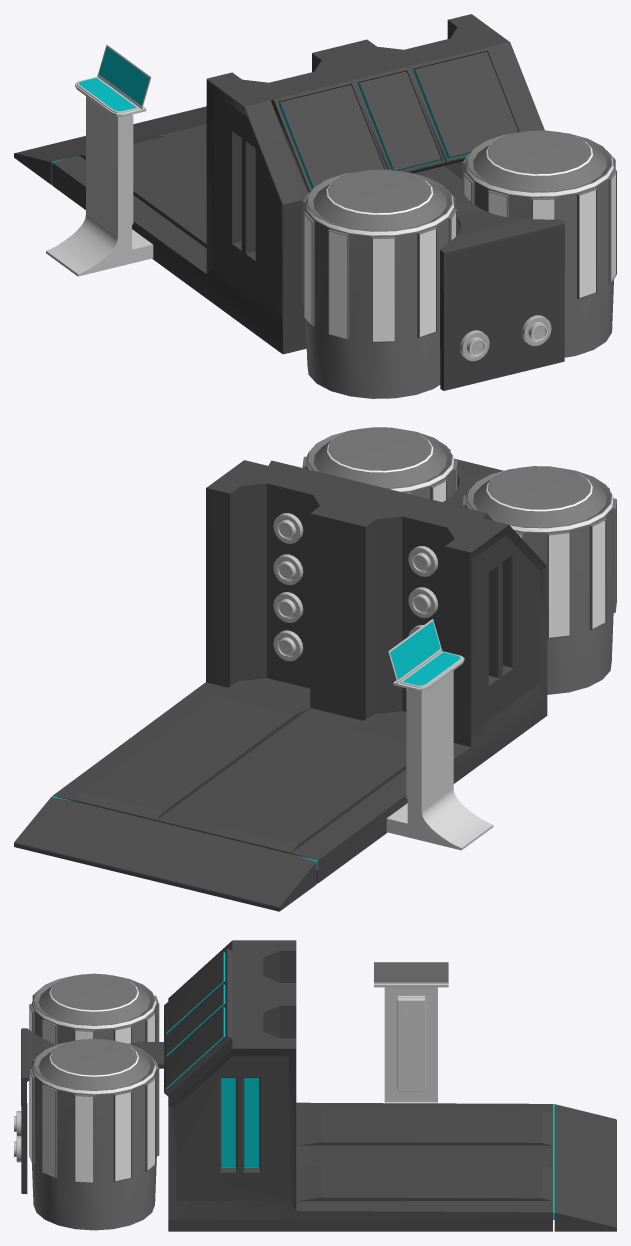
File: Recharge Station.fbx
3 views of the same model, one above another, from view 1: azimuth 30°, elevation 25°; view 2: azimuth 150°, elevation 25°; view 3: azimuth 270°, elevation 25° (orthographic). The views are drawn at different scales.
Parts seen in each view (by area): view 1: plataforma_de_recarga1, energy_bat3, terminal, plug_in_system2; view 2: plataforma_de_recarga1, energy_bat3, terminal, plug_in_system2; view 3: plataforma_de_recarga1, energy_bat3, terminal.
Boxes of the visible parts, box(x1,y1,x2,y2) form: plataforma_de_recarga1: box(14, 14, 564, 390); energy_bat3: box(302, 130, 616, 398); terminal: box(46, 44, 153, 276); plug_in_system2: box(460, 315, 551, 361); plataforma_de_recarga1: box(14, 458, 547, 911); energy_bat3: box(302, 427, 616, 694); terminal: box(386, 619, 493, 850); plug_in_system2: box(273, 513, 438, 661); plataforma_de_recarga1: box(21, 940, 616, 1231); energy_bat3: box(29, 973, 159, 1230); terminal: box(374, 962, 448, 1103).
Bounding box in the file's own units: 2.67 × 1.6 × 4.7.
